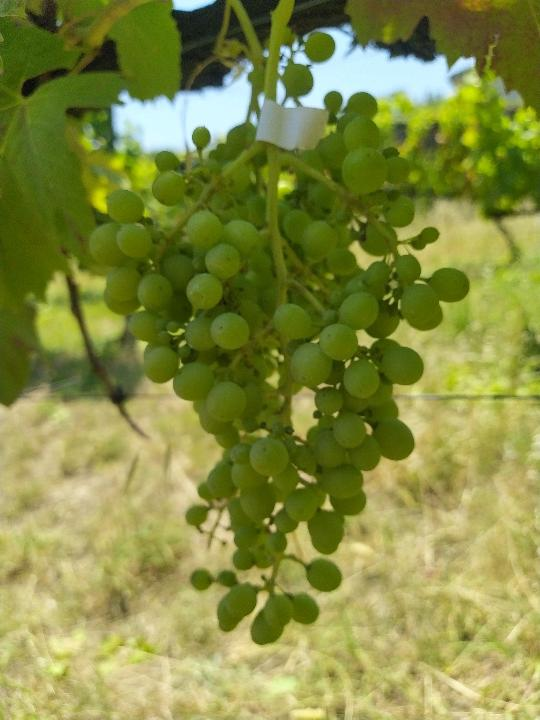grape: (88, 87, 473, 646)
